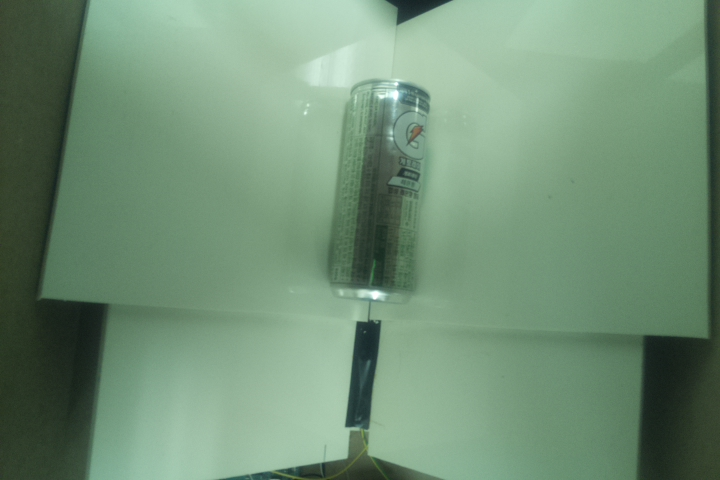can: (321, 74, 432, 303)
